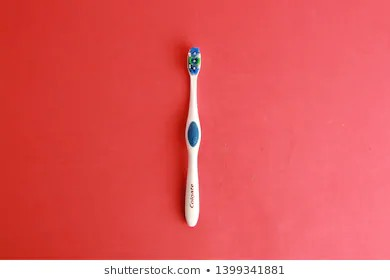toothbrush: (176, 44, 209, 230)
